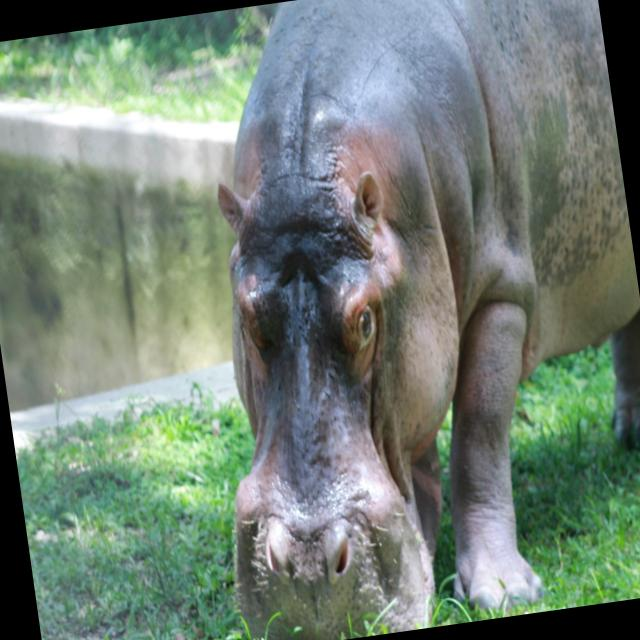hippo: (100, 0, 635, 633)
